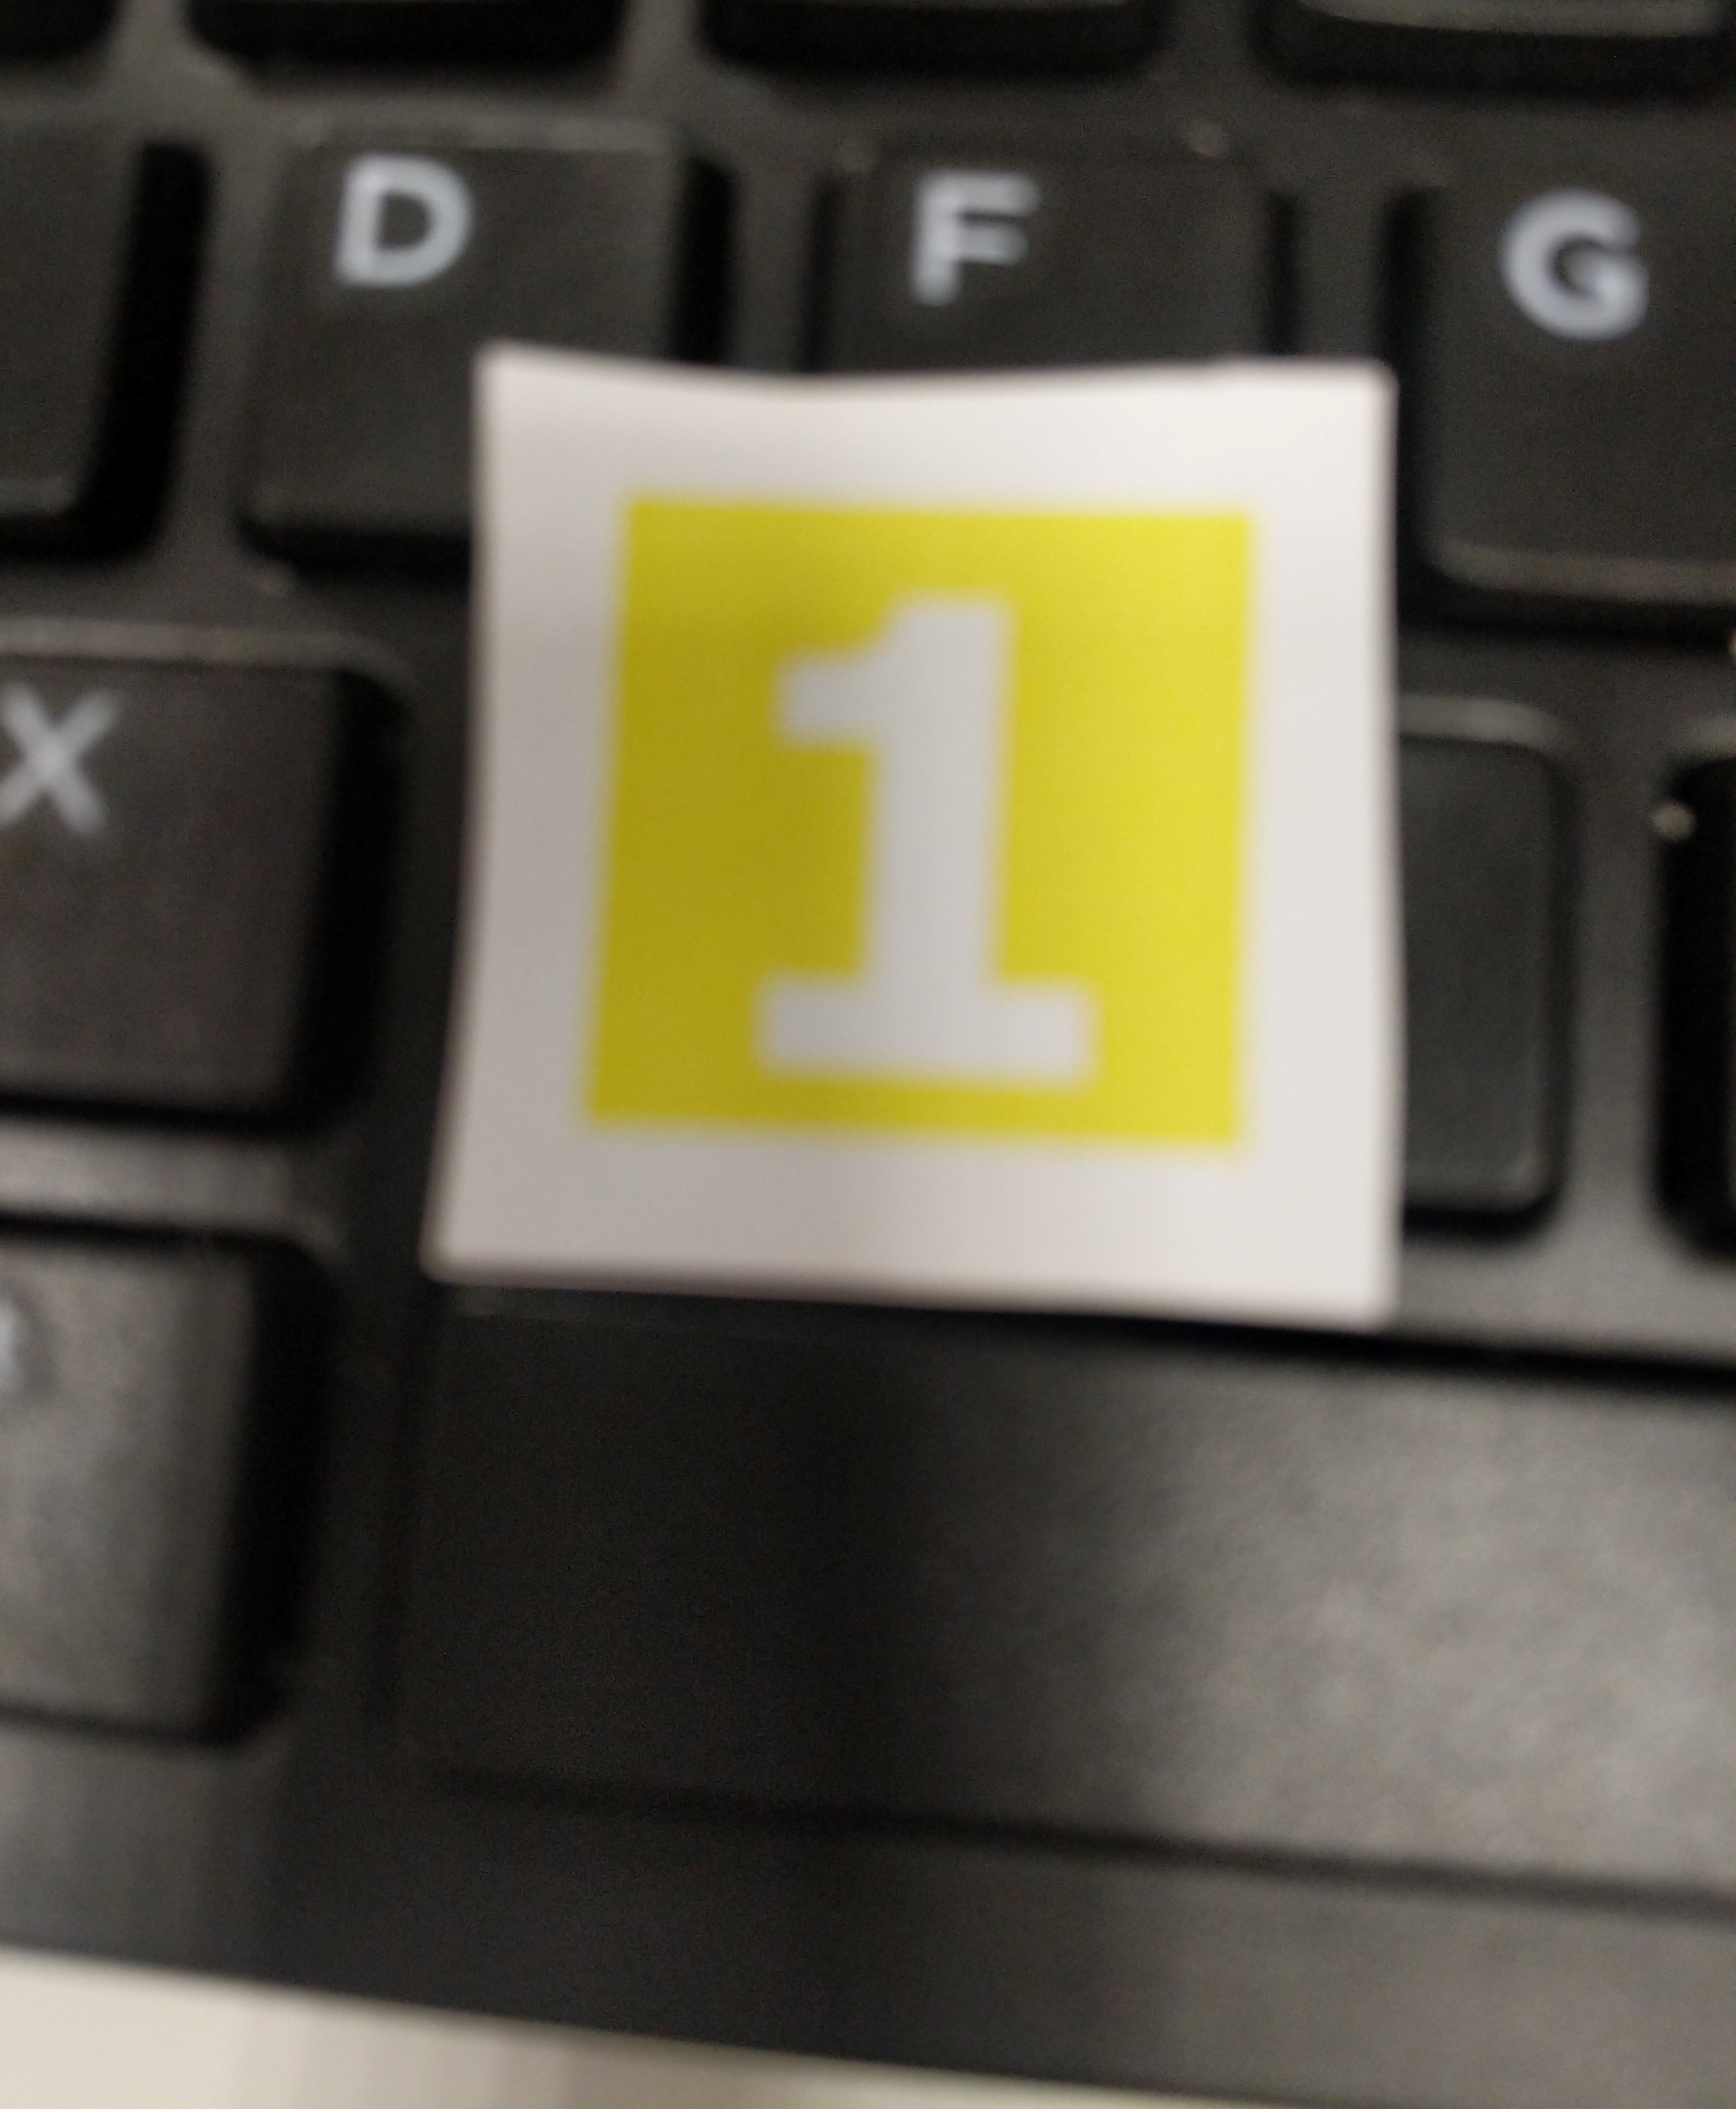yellow marker: (426, 324, 1443, 1352)
